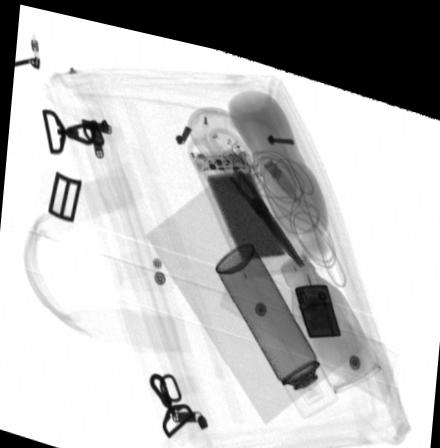Lighter: (294, 270, 339, 321)
Powerbank: (185, 133, 305, 270)
Scissors: (185, 118, 306, 254)
Sprayer: (213, 230, 338, 405)
